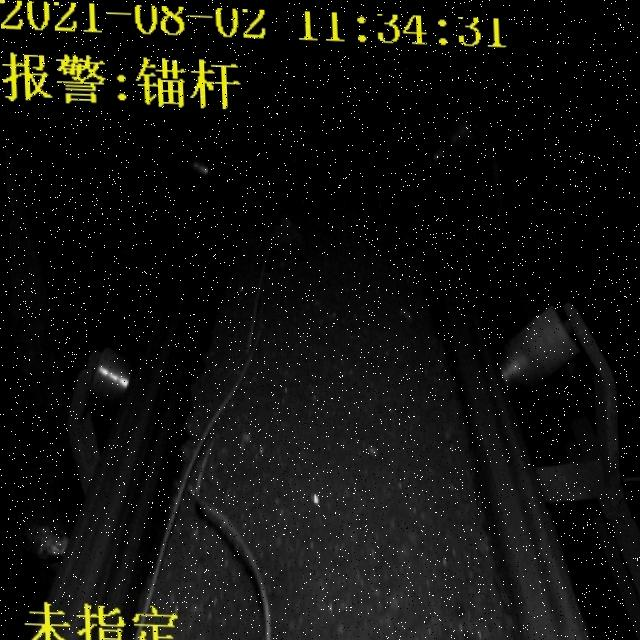bolt: (120, 227, 292, 640)
